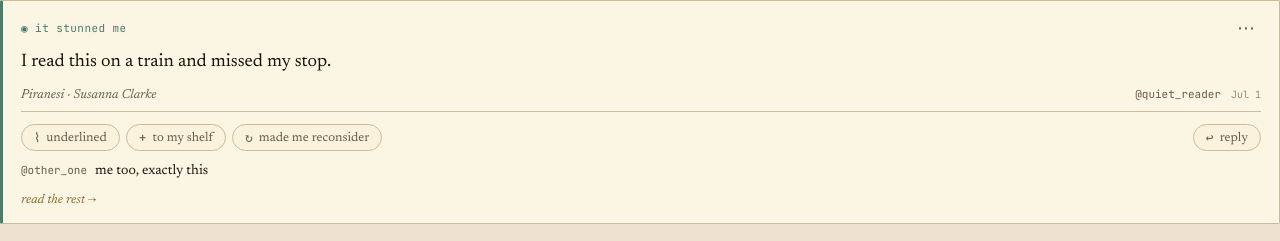
Test case: EchoCard — action row & safety menu [F6.1] › keeps reply OUT of the ⋯ menu; menu holds only mute/block/report
The width and height of the screenshot is (1280, 241).
Click the button named "safety actions" at (1246,28), box 1231,17 -> 1261,39
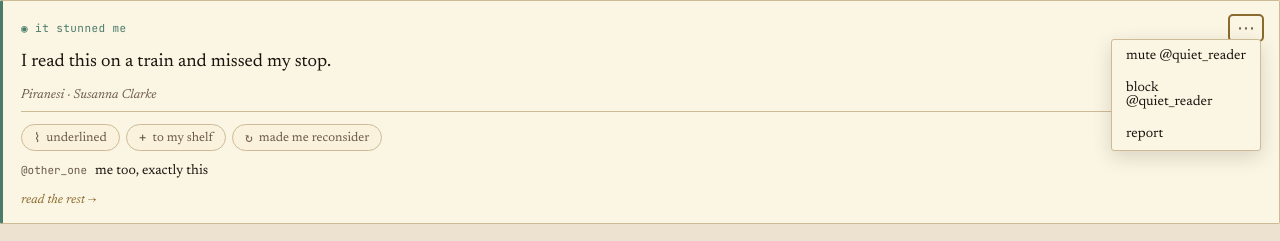
Expected: the menu item "mute @quiet_reader" is shown, 1112,40 -> 1260,72
Expected: the menu item "block @quiet_reader" is shown, 1112,72 -> 1260,118
Expected: the menu item "report" is shown, 1112,118 -> 1260,150
